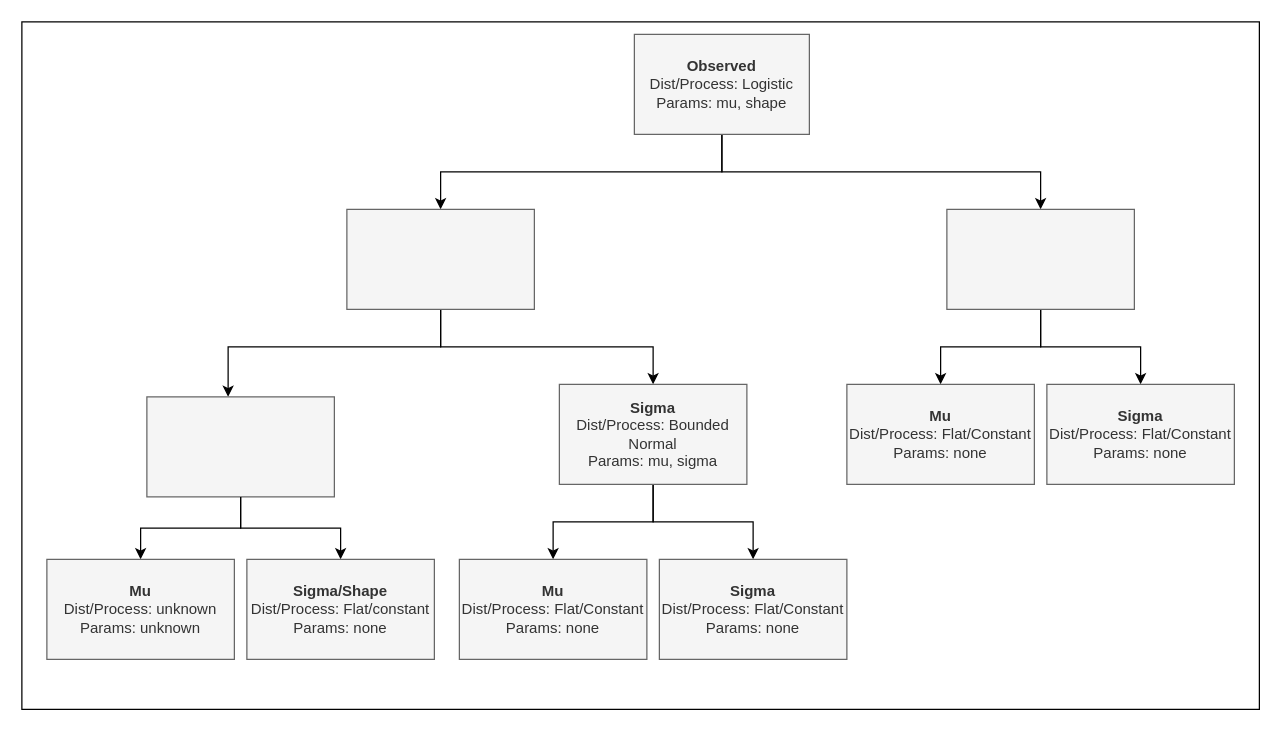
The diagram is 1281 pixels wide and 731 high, and some of its shapes have lost their labels. Each missing label, with the box of its shape:
Mu Dist/Process: Gaussian Random Walk Params: mu, sigma: (346, 208, 534, 309)
Mu Dist/Process: Log-Normal Params: mu, sigma/shape: (146, 396, 334, 497)
Shape Dist/Process: Bounded Normal Params: mu, sigma: (946, 208, 1134, 309)
